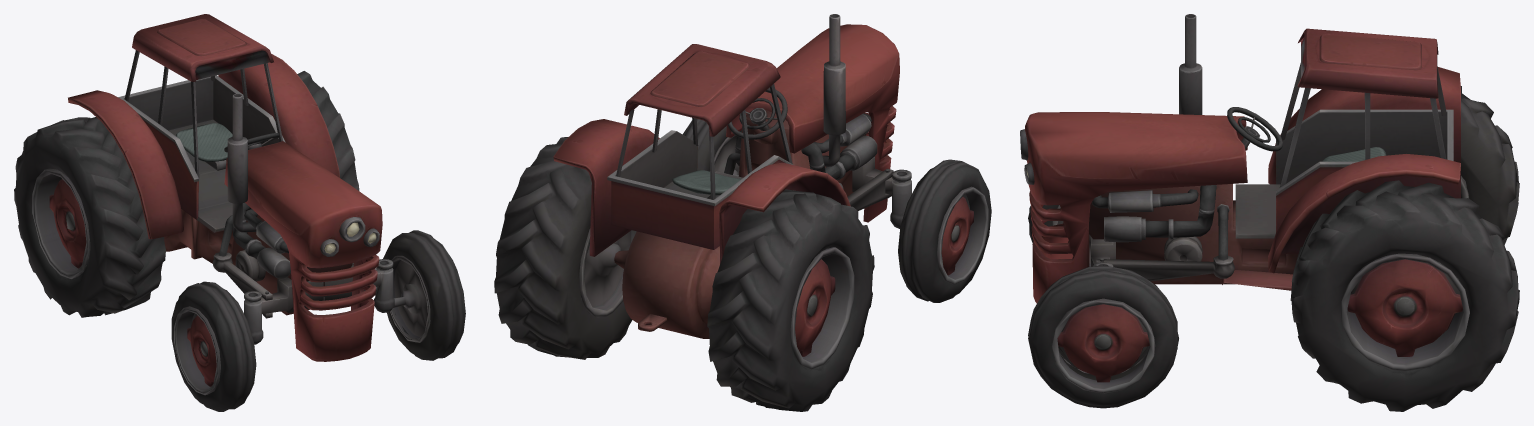
File: realtractor.glb
3 views of the same model, side by side, from view 1: azimuth 30°, elevation 25°; view 2: azimuth 150°, elevation 25°; view 3: azimuth 270°, elevation 25° (orthographic). The views are drawn at different scales.
Visible parts, largest first — view 1: backTire_backTireM_0, hull_hullM_0, frontTire_frontTireM_0, tireFlap_wheelFlapM_0, sitBox_sitBoxM_0, roof_roofM_0, tubeStuff_pipesM_0, midBit_bodyM_0, wheel_wheelSitM_0; view 2: backTire_backTireM_0, hull_hullM_0, frontTire_frontTireM_0, midBit_bodyM_0, tireFlap_wheelFlapM_0, roof_roofM_0, sitBox_sitBoxM_0, tubeStuff_pipesM_0, wheel_wheelSitM_0; view 3: backTire_backTireM_0, hull_hullM_0, frontTire_frontTireM_0, sitBox_sitBoxM_0, roof_roofM_0, tireFlap_wheelFlapM_0, tubeStuff_pipesM_0, midBit_bodyM_0, wheel_wheelSitM_0.
Boxes of the visible parts, left/top/right/bottom form: backTire_backTireM_0: left=14, top=71, right=359, bottom=317; hull_hullM_0: left=224, top=93, right=382, bottom=361; frontTire_frontTireM_0: left=171, top=230, right=465, bottom=411; tireFlap_wheelFlapM_0: left=68, top=54, right=339, bottom=239; sitBox_sitBoxM_0: left=118, top=75, right=285, bottom=232; roof_roofM_0: left=124, top=14, right=282, bottom=177; tubeStuff_pipesM_0: left=212, top=202, right=394, bottom=344; midBit_bodyM_0: left=164, top=209, right=352, bottom=315; wheel_wheelSitM_0: left=176, top=123, right=279, bottom=170; backTire_backTireM_0: left=494, top=137, right=874, bottom=411; hull_hullM_0: left=726, top=14, right=899, bottom=222; frontTire_frontTireM_0: left=682, top=119, right=991, bottom=302; midBit_bodyM_0: left=614, top=109, right=866, bottom=338; tireFlap_wheelFlapM_0: left=553, top=119, right=850, bottom=263; roof_roofM_0: left=616, top=44, right=792, bottom=199; sitBox_sitBoxM_0: left=607, top=130, right=793, bottom=249; tubeStuff_pipesM_0: left=724, top=113, right=911, bottom=228; wheel_wheelSitM_0: left=672, top=87, right=787, bottom=199; backTire_backTireM_0: left=1290, top=86, right=1519, bottom=411; hull_hullM_0: left=1020, top=14, right=1247, bottom=303; frontTire_frontTireM_0: left=1028, top=205, right=1178, bottom=408; sitBox_sitBoxM_0: left=1235, top=109, right=1453, bottom=238; roof_roofM_0: left=1279, top=28, right=1446, bottom=187; tireFlap_wheelFlapM_0: left=1268, top=67, right=1460, bottom=273; tubeStuff_pipesM_0: left=1091, top=185, right=1234, bottom=281; midBit_bodyM_0: left=1089, top=184, right=1298, bottom=290; wheel_wheelSitM_0: left=1227, top=107, right=1386, bottom=161.
Bounding box in the file's own units: 2.45 × 2.44 × 3.6.
Materials: 9 (9 with a texture image).
